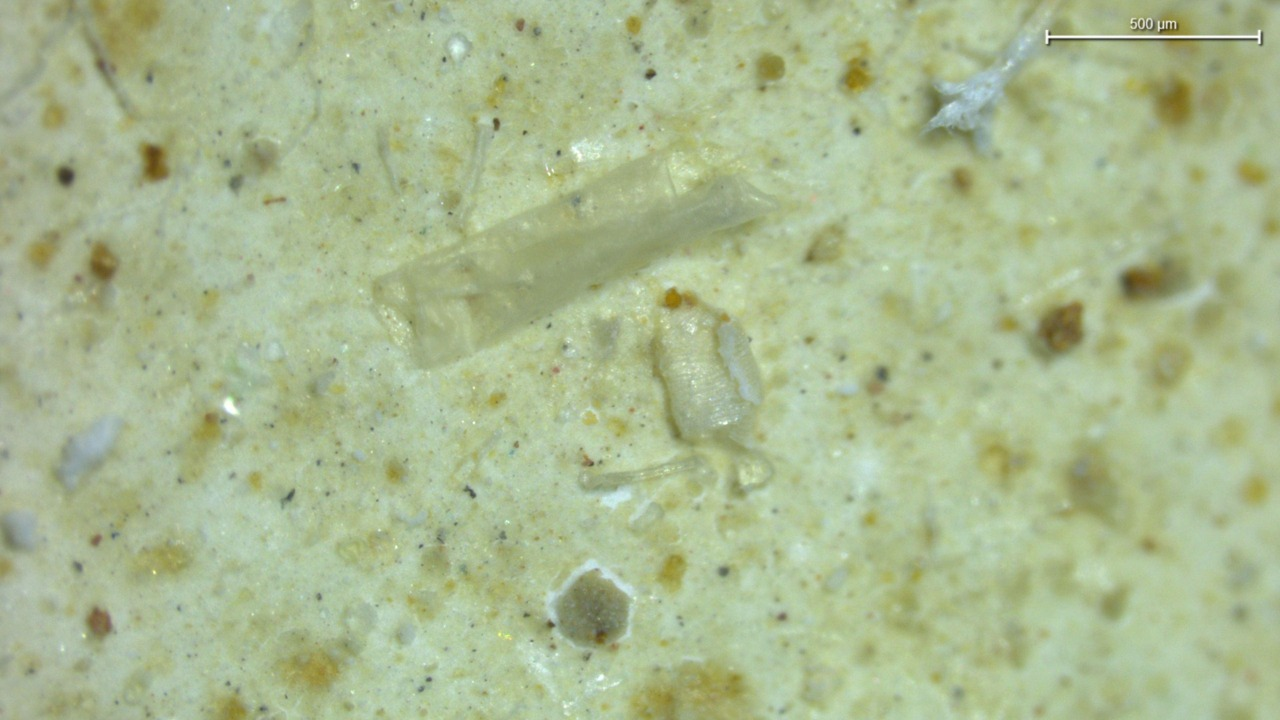microplastic_fragment: (654, 300, 760, 439)
